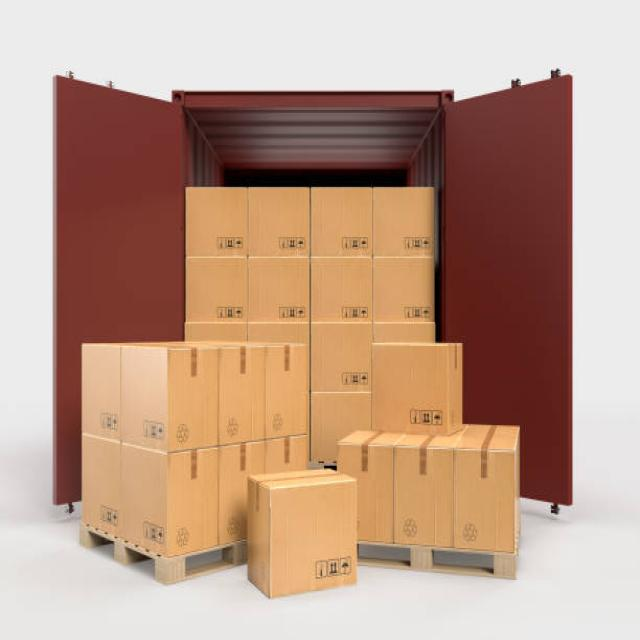Wooden-Pallets: (81, 516, 260, 587), (361, 541, 519, 579)
